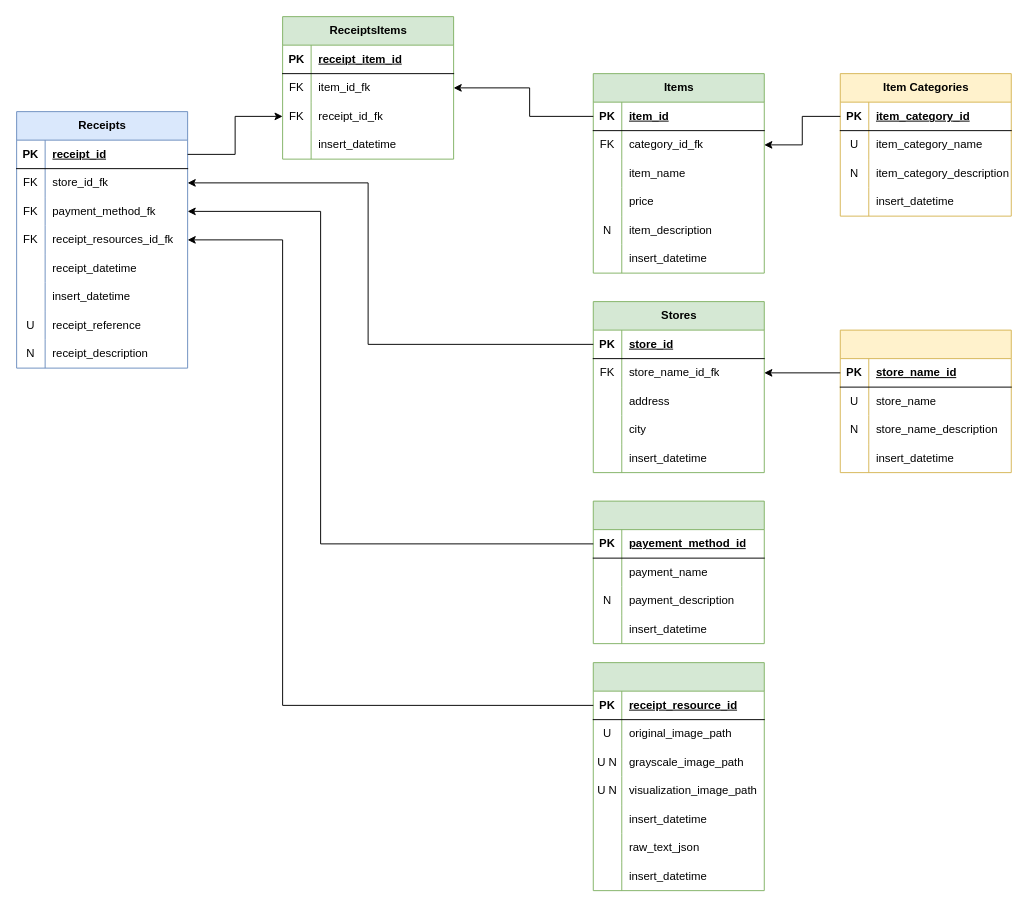
The diagram is 1028 pixels wide and 907 high, and some of its shapes have lost their labels. Each missing label, with the box of its shape:
Payment Methods: (592, 500, 764, 644)
Receipt Resources: (592, 662, 764, 891)
Store Names: (839, 329, 1011, 473)
